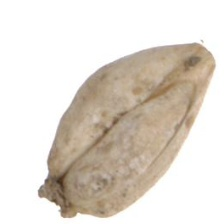L1: (161, 41, 216, 99), (36, 175, 90, 218)
L2: (37, 41, 215, 218)
